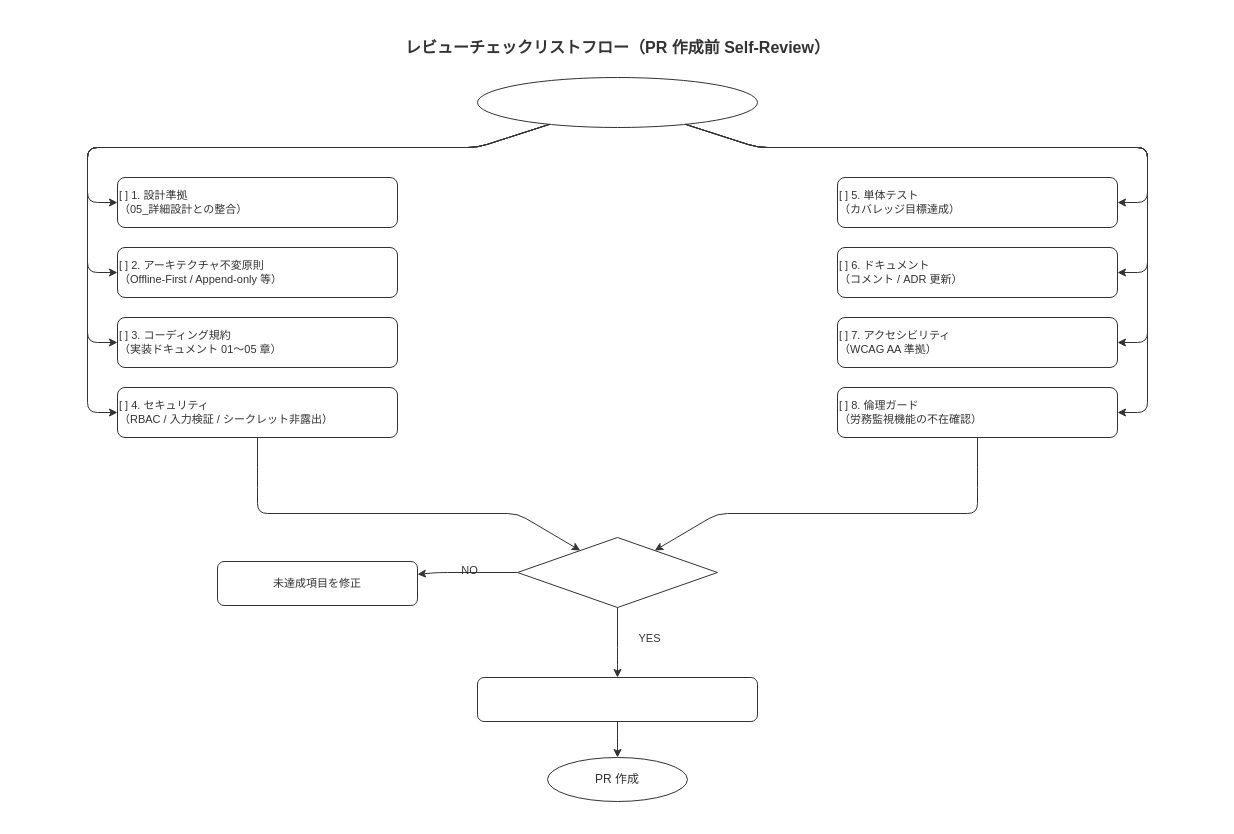
This 1234x834 diagram has some shape labels left out. Each missing label, with the centre of its shape:
[must] コメントなし確認: the point at 617,699
PR 作成前 Self-Review 開始: the point at 617,102
全 OK？: the point at 617,572
